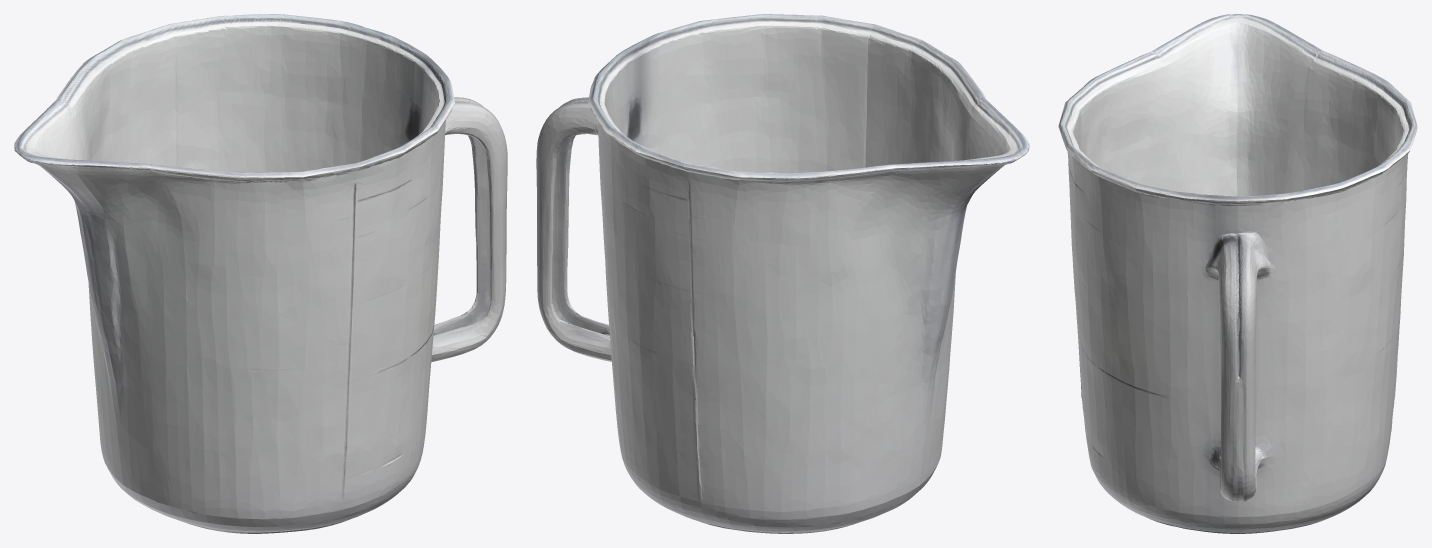
The model's file is liquidmeasurecup.glb.
3 views of the same model, side by side, from view 1: azimuth 30°, elevation 25°; view 2: azimuth 150°, elevation 25°; view 3: azimuth 270°, elevation 25° (orthographic). The views are drawn at different scales.
Visible parts, largest first — view 1: world; view 2: world; view 3: world.
Boxes of the visible parts, x1,y1,x2,y2 form: world: [14, 14, 507, 533]; world: [536, 14, 1029, 533]; world: [1058, 14, 1417, 533].
Size of the model in its own units: 0.9978 by 0.7606 by 0.6865.
1 material, 1 textured.
